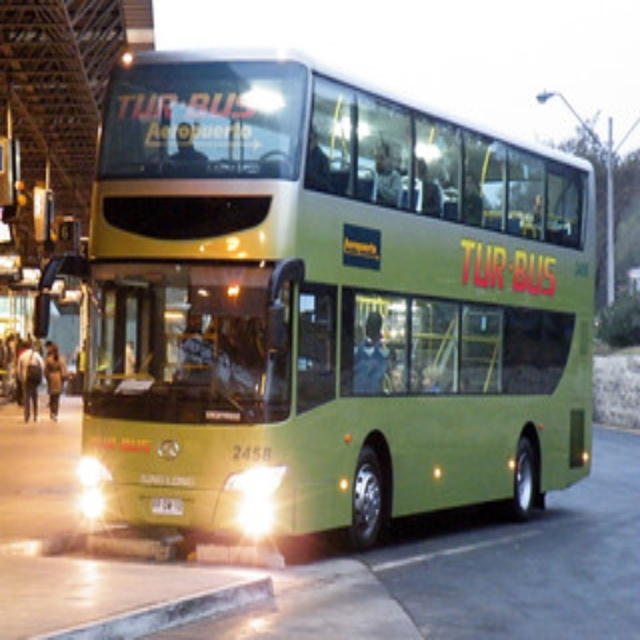Bus: (78, 51, 594, 552)
